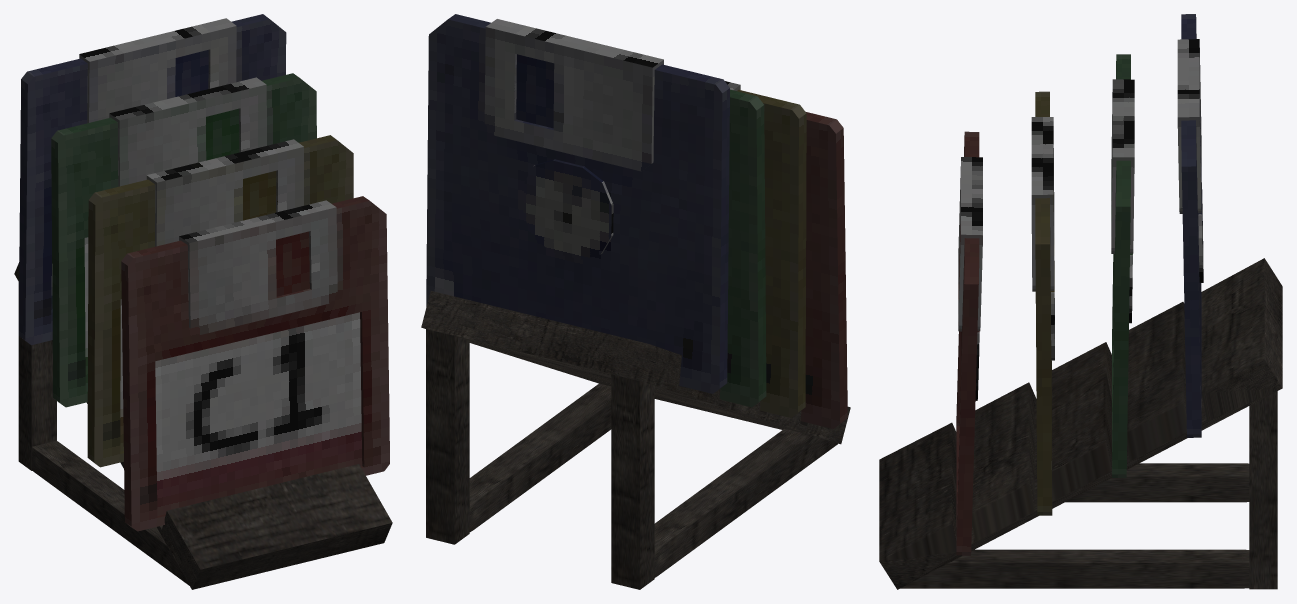
File: Disks.glb
3 views of the same model, side by side, from view 1: azimuth 30°, elevation 25°; view 2: azimuth 150°, elevation 25°; view 3: azimuth 270°, elevation 25° (orthographic). The views are drawn at different scales.
Parts seen in each view (by area): view 1: floppy_disc_4, disc_holder, floppy_disc_2, floppy_disc_3, floppy_disc_1; view 2: floppy_disc_1, disc_holder, floppy_disc_3, floppy_disc_4, floppy_disc_2; view 3: disc_holder, floppy_disc_4, floppy_disc_1, floppy_disc_2, floppy_disc_3.
Part boxes in pixels (left/top/right/bottom): floppy_disc_4: left=121, top=196, right=389, bottom=531; disc_holder: left=14, top=262, right=392, bottom=589; floppy_disc_2: left=51, top=73, right=316, bottom=407; floppy_disc_3: left=87, top=135, right=353, bottom=467; floppy_disc_1: left=18, top=14, right=286, bottom=345; floppy_disc_1: left=426, top=14, right=729, bottom=393; disc_holder: left=421, top=291, right=850, bottom=589; floppy_disc_3: left=725, top=81, right=806, bottom=417; floppy_disc_4: left=800, top=112, right=847, bottom=428; floppy_disc_2: left=719, top=89, right=766, bottom=407; disc_holder: left=879, top=258, right=1282, bottom=589; floppy_disc_4: left=956, top=131, right=982, bottom=555; floppy_disc_1: left=1177, top=14, right=1203, bottom=437; floppy_disc_2: left=1111, top=54, right=1134, bottom=477; floppy_disc_3: left=1031, top=91, right=1054, bottom=515.
Size of the model in its own units: 0.1267 by 0.2004 by 0.1581.
Materials: 5 (5 with a texture image).
